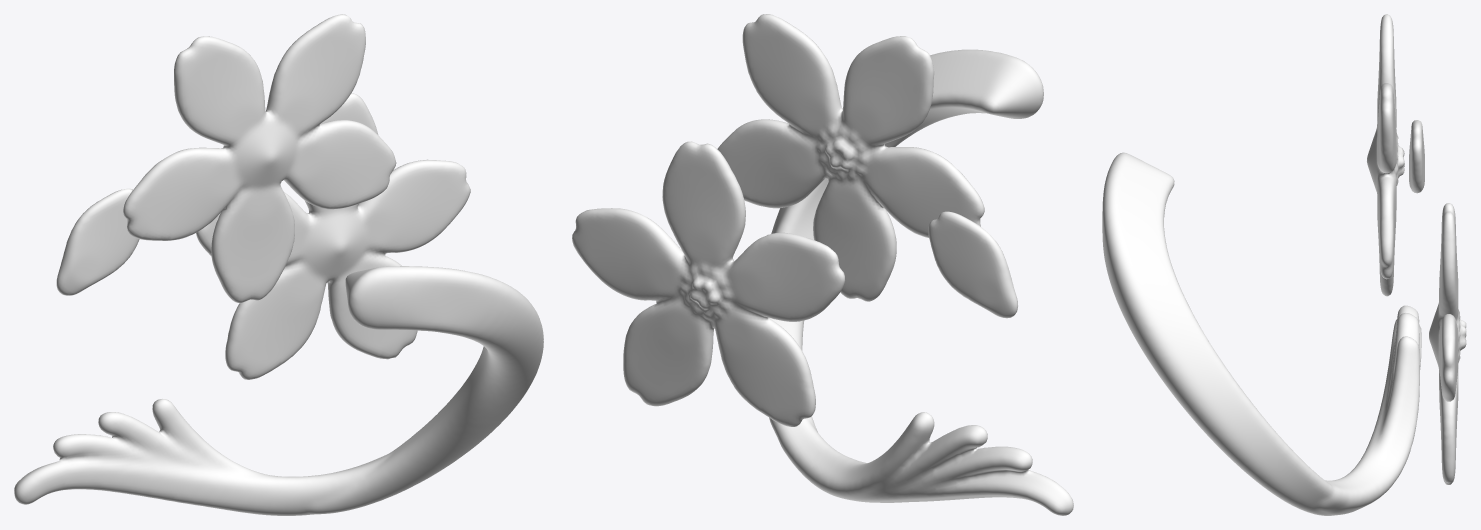
Rendered from left.glb.
3 views of the same model, side by side, from view 1: azimuth 30°, elevation 25°; view 2: azimuth 150°, elevation 25°; view 3: azimuth 270°, elevation 25° (orthographic). The views are drawn at different scales.
Parts seen in each view (by area): view 1: Left Side; view 2: Left Side; view 3: Left Side.
Boxes of the visible parts, x1,y1,x2,y2 form: Left Side: (14,14,543,515); Left Side: (572,14,1073,515); Left Side: (1102,14,1466,515).
Size of the model in its own units: 113 by 110 by 81.
Materials: 1 (1 with a texture image).
